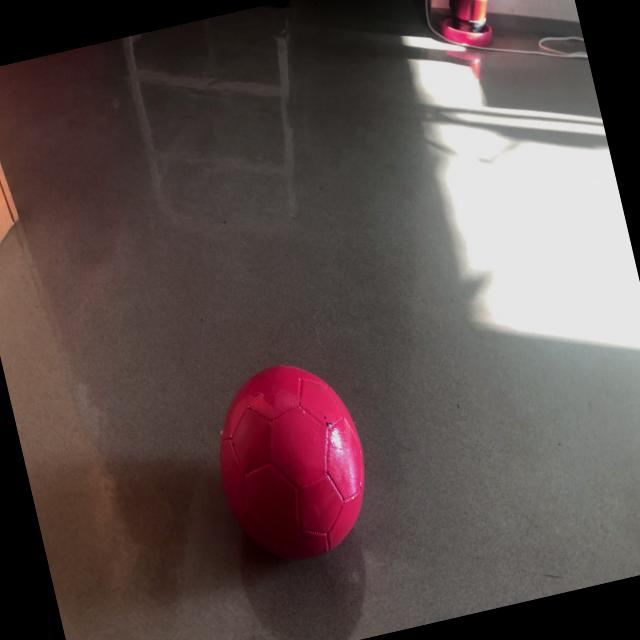red_ball: (200, 348, 381, 576)
